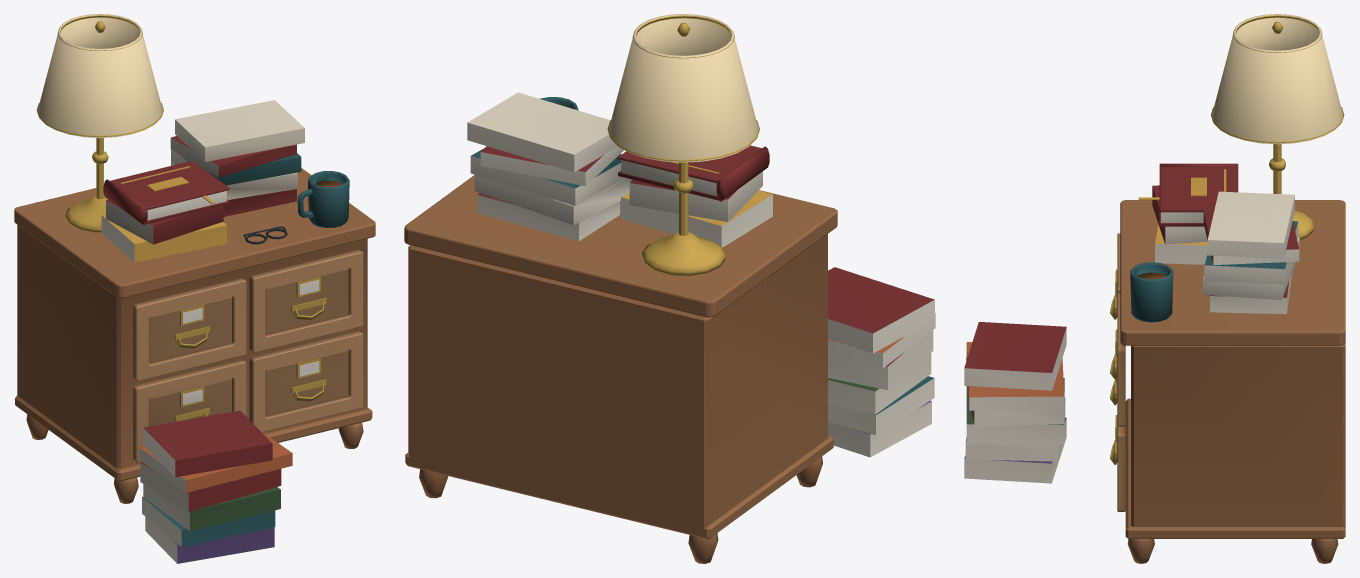
File: bedsideStack.glb
The picture shows the model from 3 angles, left to right: view 1: azimuth 30°, elevation 25°; view 2: azimuth 150°, elevation 25°; view 3: azimuth 270°, elevation 25°; orthographic projection. The views are drawn at different scales.
Parts seen in each view (by area): view 1: body, cover; view 2: body, cover; view 3: body, cover.
Boxes of the visible parts, x1,y1,x2,y2 form: body: (14, 14, 375, 563); cover: (110, 161, 229, 210); body: (404, 14, 935, 563); cover: (618, 145, 761, 183); body: (964, 14, 1345, 563); cover: (1159, 167, 1238, 212).
Bounding box in the file's own units: 0.6257 × 0.9336 × 0.7278.
